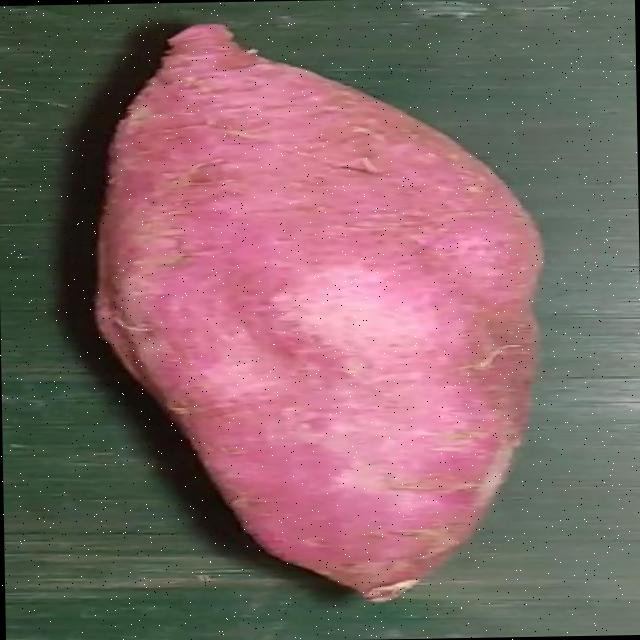Sweet Potato: (91, 23, 545, 602)
